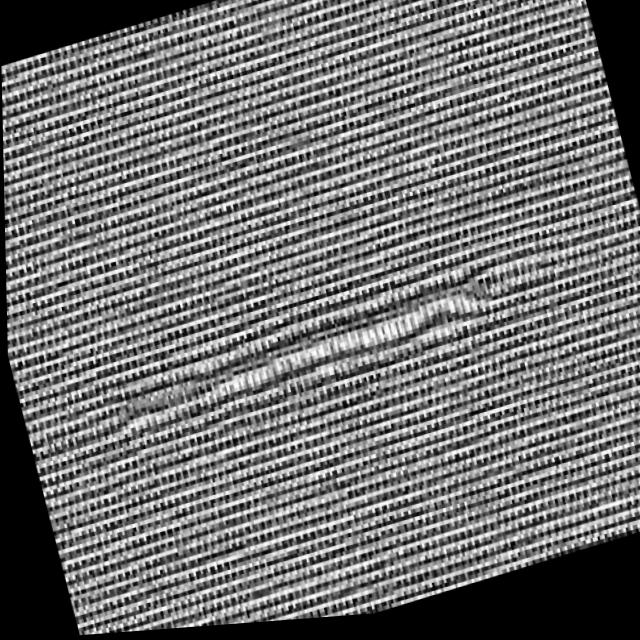Hole: (26, 242, 535, 495)
